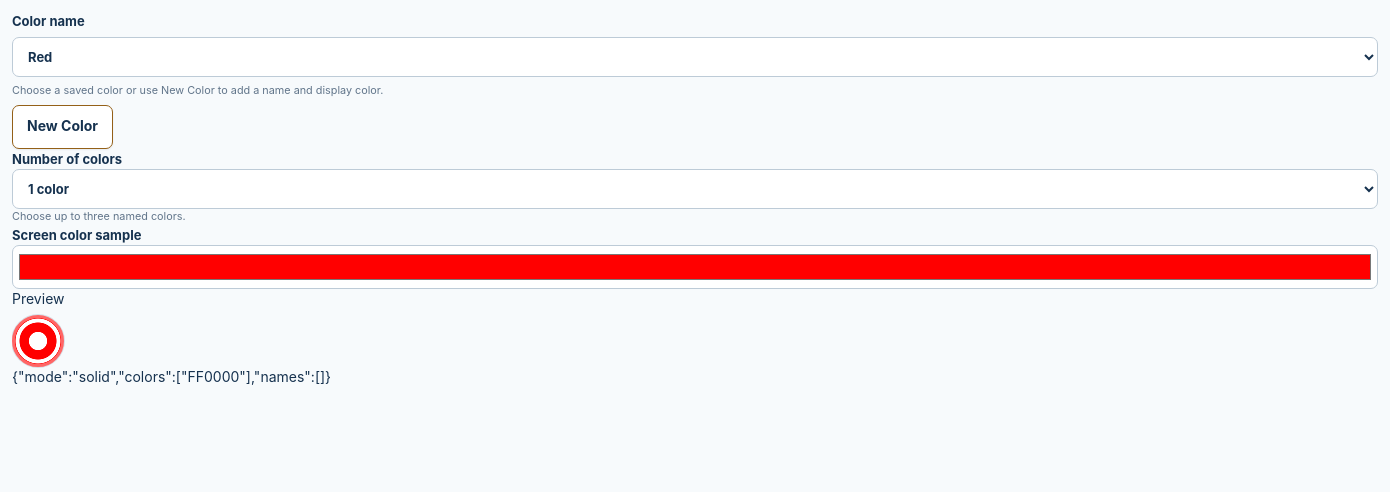
it: forces Multicolor for two and three named samples and restores solid selection at one
Select "2 colors" in the dropdown labelled "Number of colors" at (695, 189), box top-left (12, 169), bottom-right (1378, 209)
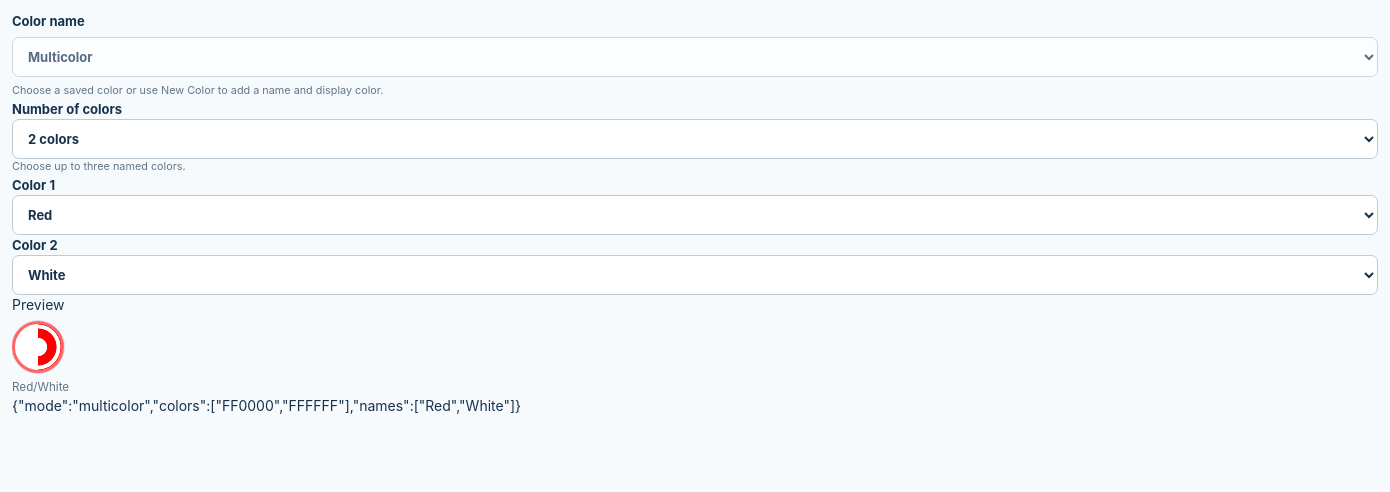
expect the dropdown labelled "Color name" is disabled: met, box top-left (12, 37), bottom-right (1378, 77)
expect the dropdown labelled "Color name" shows "Multicolor": met, box top-left (12, 37), bottom-right (1378, 77)
Select "3 colors" in the dropdown labelled "Number of colors" at (695, 139), box top-left (12, 119), bottom-right (1378, 159)
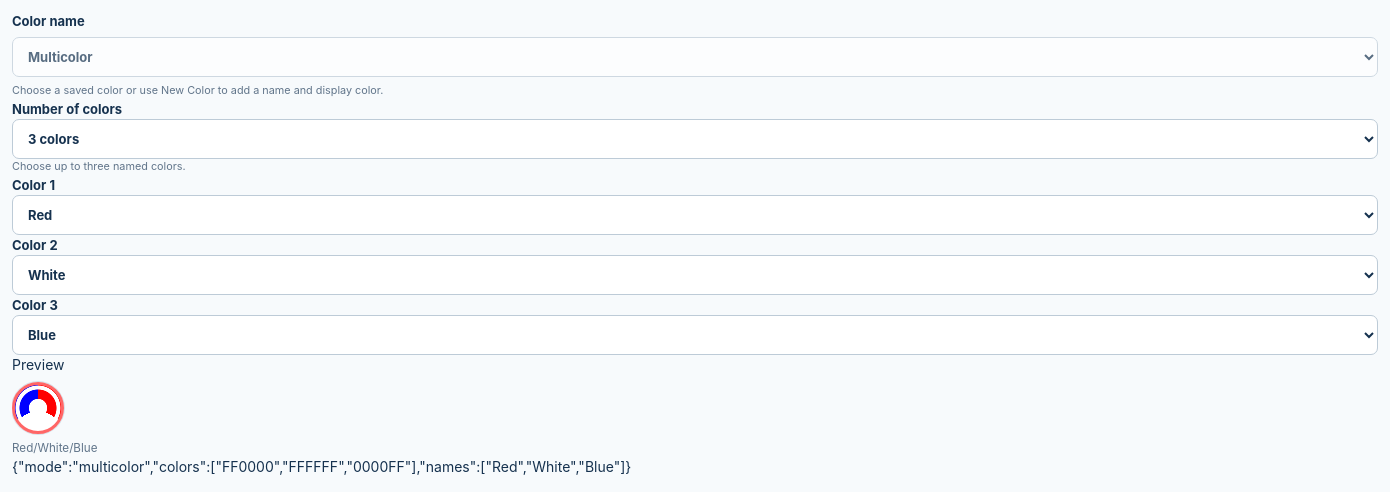
Select "Blue" in the dropdown labelled "Color 3" at (695, 335), box top-left (12, 315), bottom-right (1378, 355)
expect the text "\"names\":[\"Red\",\"White\",\"Blue\"]" is shown: met, box top-left (12, 458), bottom-right (631, 475)
Select "1 color" in the dropdown labelled "Number of colors" at (695, 139), box top-left (12, 119), bottom-right (1378, 159)
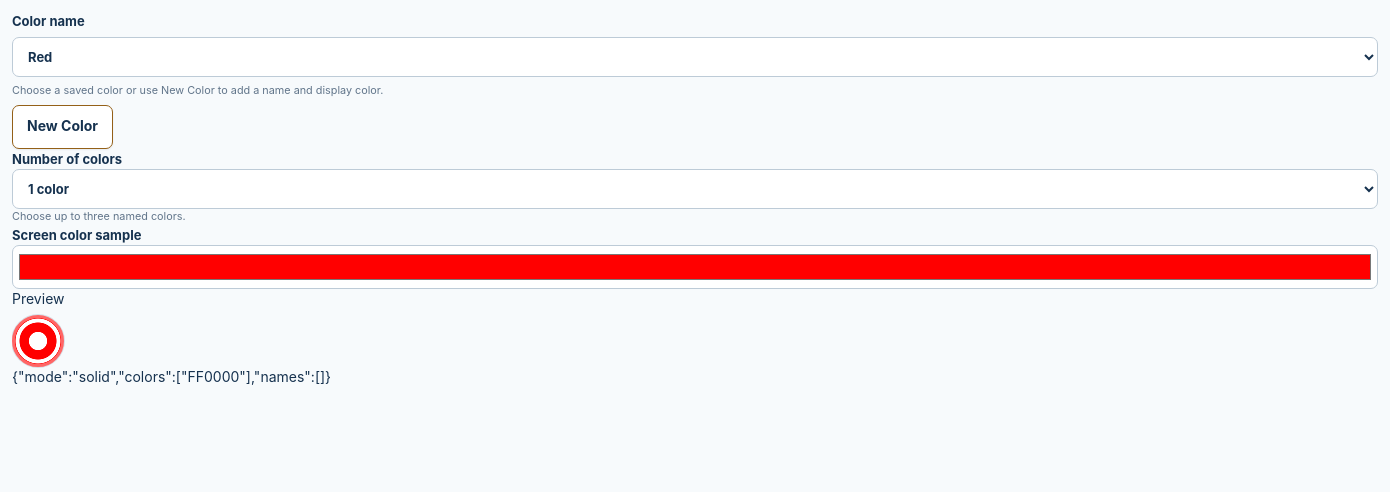
expect the dropdown labelled "Color name" is enabled: met
Select "Blue" in the dropdown labelled "Color name" at (695, 57), box top-left (12, 37), bottom-right (1378, 77)
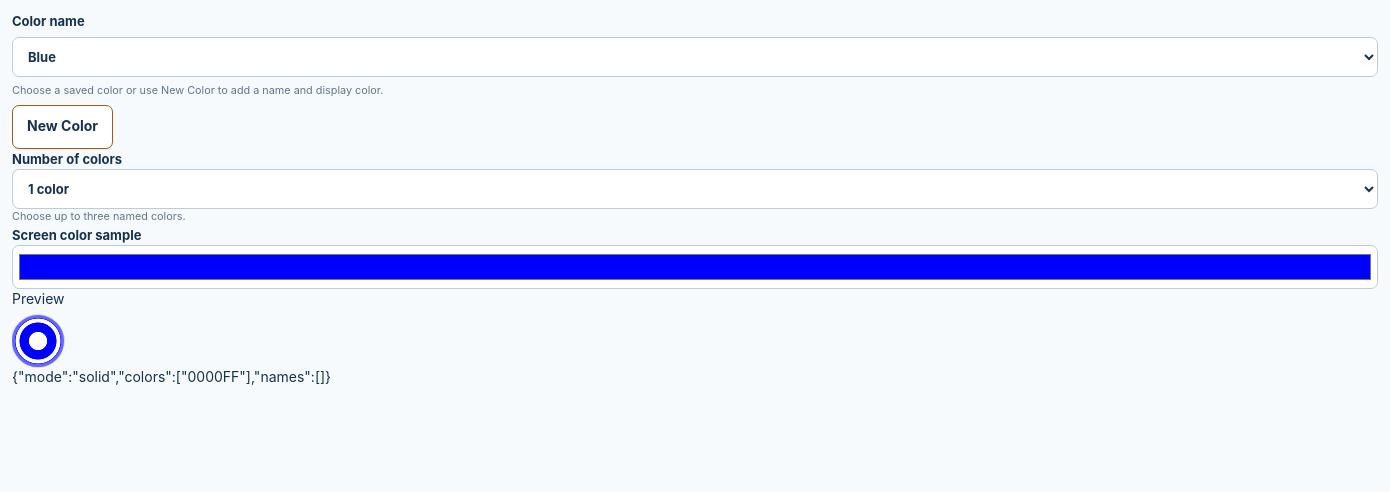
expect the text "{\"mode\":\"solid\",\"colors\":[\"0000FF\"],\"names\":[]}" shows "\"mode\":\"solid\",\"colors\":[\"0000FF\"],\"names\":[]": met, box top-left (12, 368), bottom-right (331, 385)
